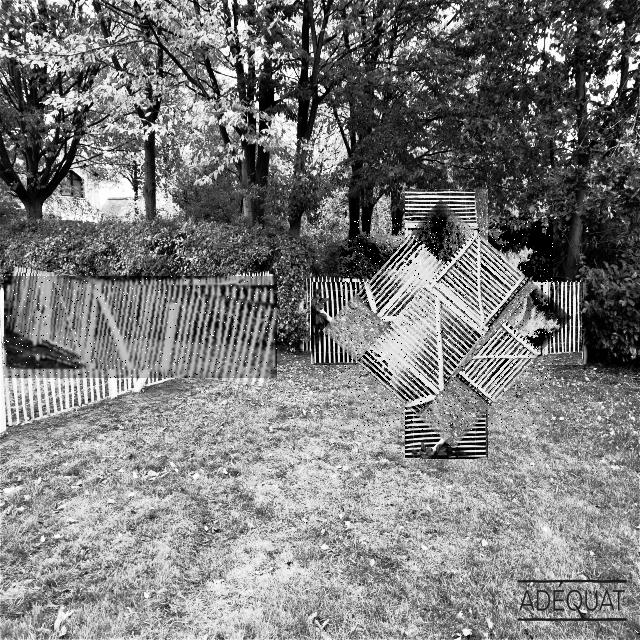fences: (340, 217, 553, 430), (4, 276, 277, 378)
